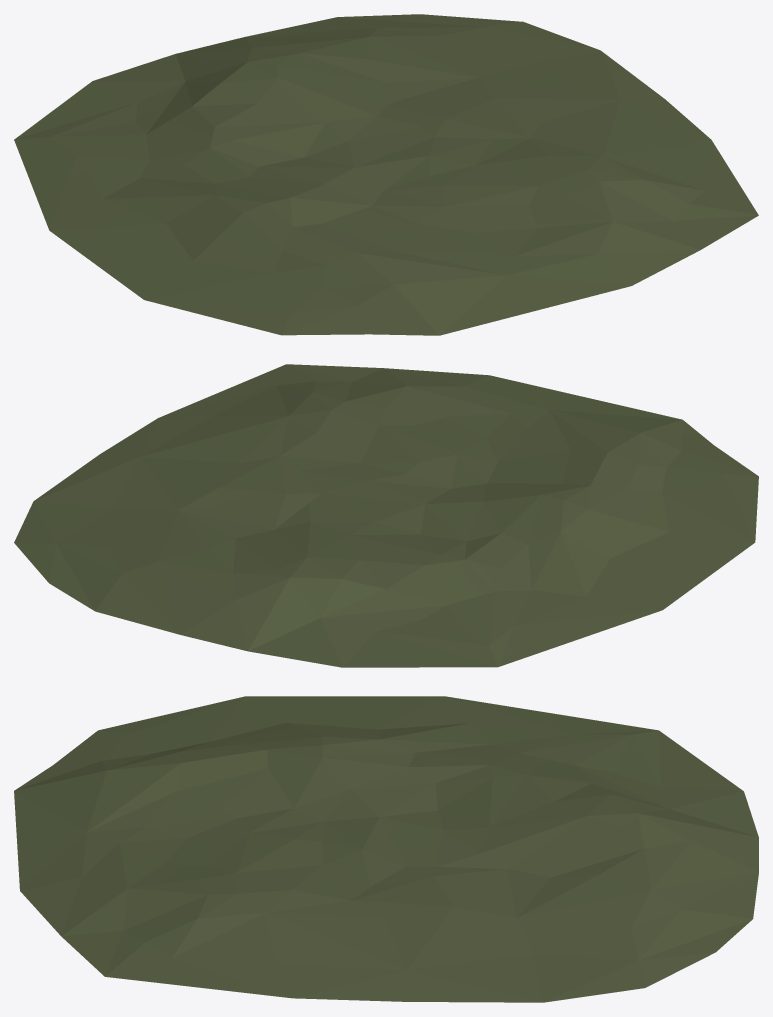
The model's file is SM_Generic_Ground_01.glb.
3 renders of one model, top to bottom at view 1: azimuth 30°, elevation 25°; view 2: azimuth 150°, elevation 25°; view 3: azimuth 270°, elevation 25°, orthographic. The views are drawn at different scales.
Visible parts, largest first — view 1: SM_Generic_Ground_01; view 2: SM_Generic_Ground_01; view 3: SM_Generic_Ground_01.
Part boxes in pixels (x1,y1,x2,y2): SM_Generic_Ground_01: [14, 14, 758, 335]; SM_Generic_Ground_01: [14, 364, 758, 667]; SM_Generic_Ground_01: [14, 696, 758, 1002].
Bounding box in the file's own units: 5.53 × 0.2759 × 5.68.
Materials: 1 (1 with a texture image).
